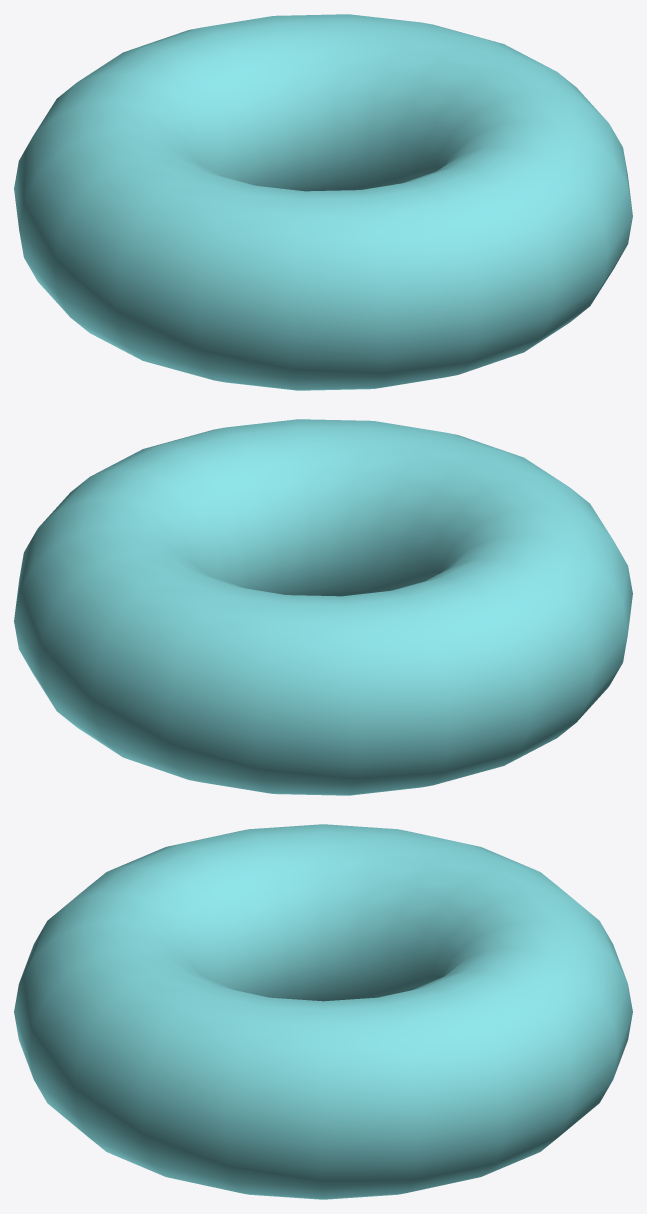
Rendered from testcube2.fbx.
3 views of the same model, one above another, from view 1: azimuth 30°, elevation 25°; view 2: azimuth 150°, elevation 25°; view 3: azimuth 270°, elevation 25° (orthographic).
Parts seen in each view (by area): view 1: pTorus1; view 2: pTorus1; view 3: pTorus1.
Boxes of the visible parts, bbox=[...] form: pTorus1: bbox=[14, 14, 632, 390]; pTorus1: bbox=[14, 419, 632, 795]; pTorus1: bbox=[14, 824, 632, 1199].
Bounding box in the file's own units: 47.66 × 15.4 × 47.66.
